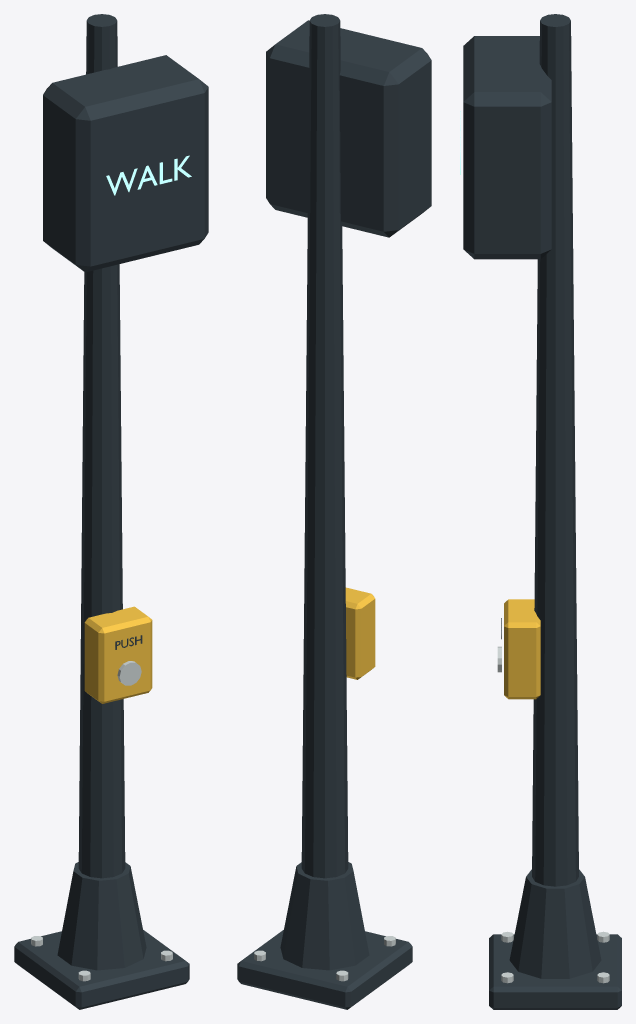
The model's file is Pedestrian_Crossing_Pole.glb.
The picture shows the model from 3 angles, left to right: view 1: azimuth 30°, elevation 25°; view 2: azimuth 150°, elevation 25°; view 3: azimuth 270°, elevation 25°; orthographic projection.
Visible parts, largest first — view 1: Pedestrian_Crossing_Pole; view 2: Pedestrian_Crossing_Pole; view 3: Pedestrian_Crossing_Pole.
Part boxes in pixels (box(x1,y1,x2,y2)): Pedestrian_Crossing_Pole: box(14, 14, 208, 1009); Pedestrian_Crossing_Pole: box(237, 14, 431, 1009); Pedestrian_Crossing_Pole: box(460, 14, 621, 1009).
Size of the model in its own units: 0.42 by 2.88 by 0.4387.
